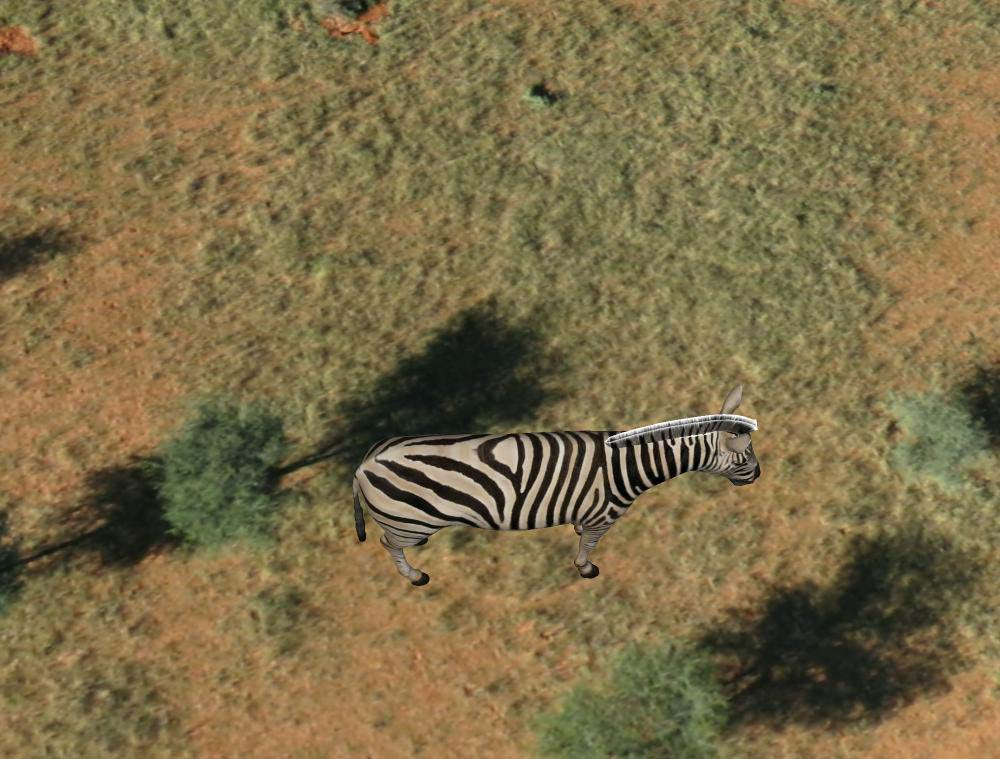zebra: (350, 385, 764, 589)
